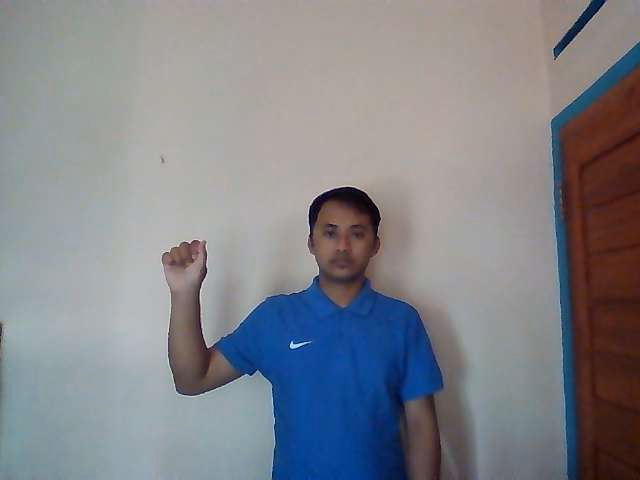A: (160, 239, 209, 290)
